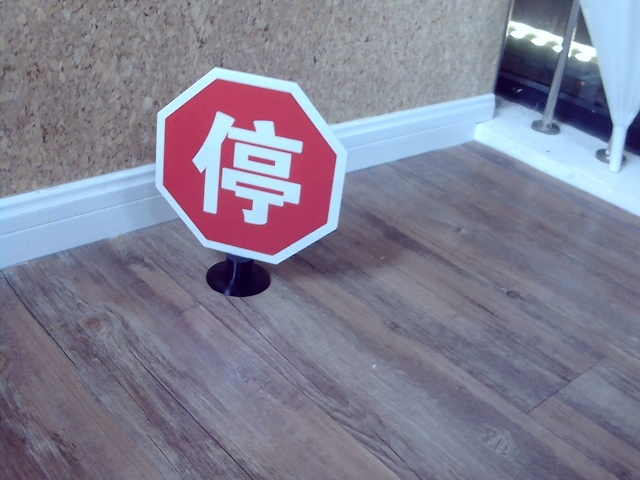stop: (191, 105, 304, 224)
